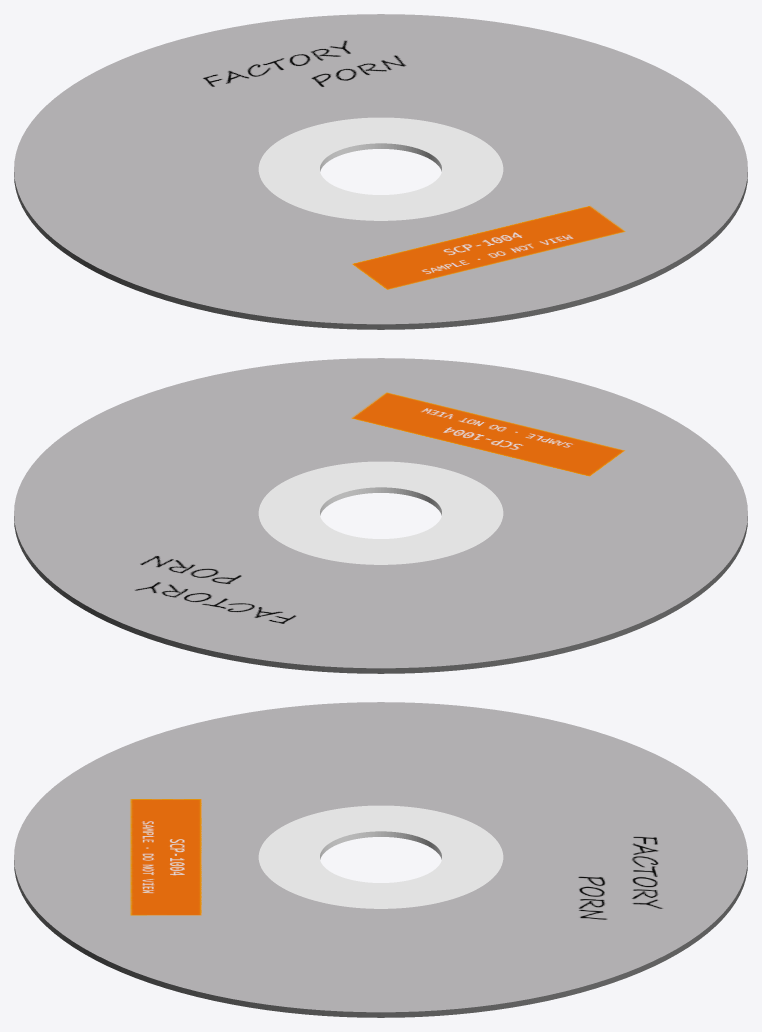
3 renders of one model, top to bottom at view 1: azimuth 30°, elevation 25°; view 2: azimuth 150°, elevation 25°; view 3: azimuth 270°, elevation 25°, orthographic.
Visible parts, largest first — view 1: node_id5 (×2), node_id8; view 2: node_id5 (×2), node_id8; view 3: node_id5 (×2), node_id8.
Part boxes in pixels (x1,y1,x2,y2): node_id5 (×2): (14, 14, 747, 329); node_id8: (258, 117, 503, 220); node_id5 (×2): (14, 358, 747, 673); node_id8: (258, 461, 503, 564); node_id5 (×2): (14, 702, 747, 1017); node_id8: (258, 805, 503, 908).
Bounding box in the file's own units: 0.512 × 0.00427 × 0.512.
3 materials, 1 textured.
